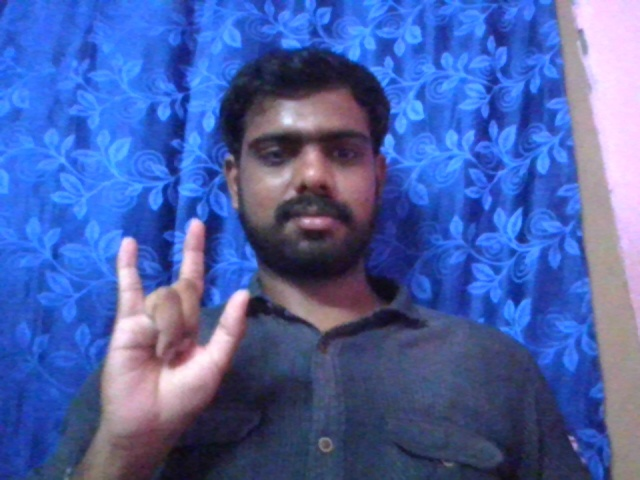IloveYou: (97, 217, 250, 443)
